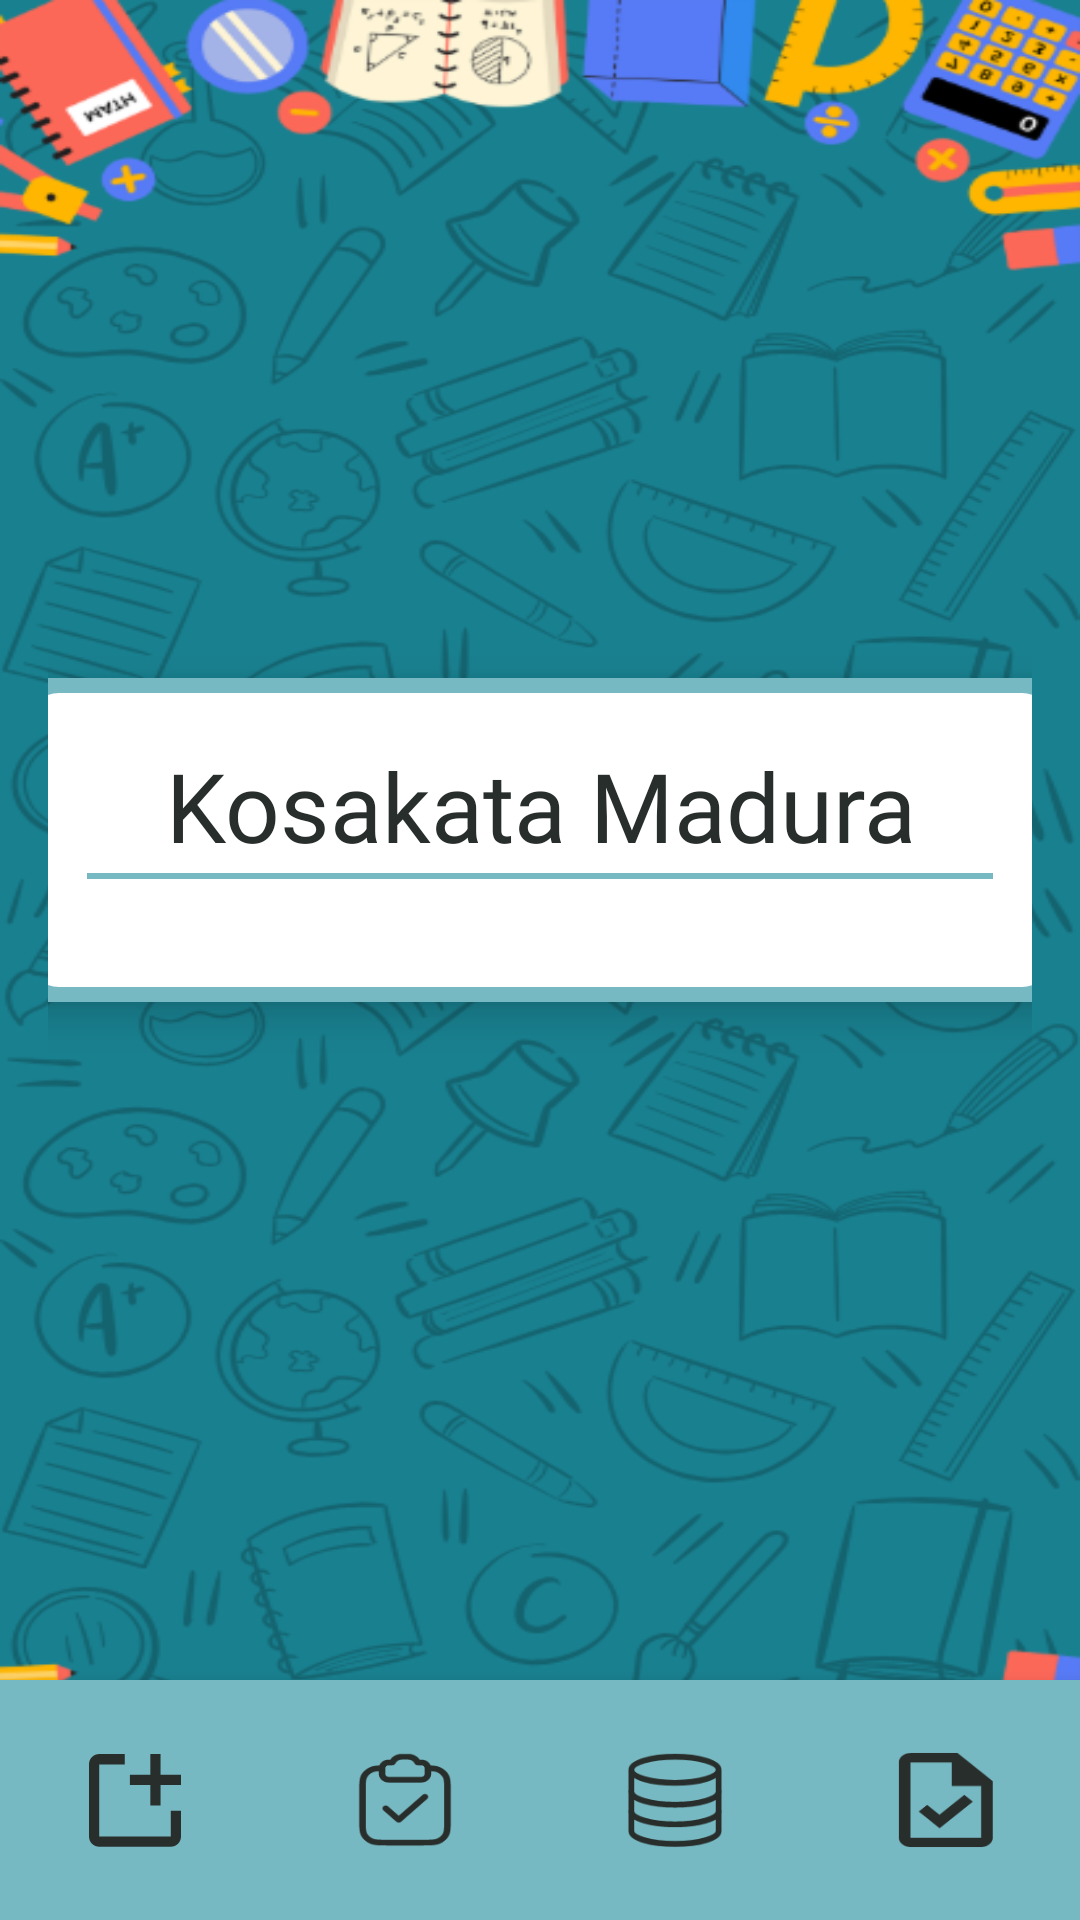

Point at icon controls on the screen. Image size 1080 × 1920, points as point (x, y).
eval: point (405, 1800)
list eval: point (946, 1800)
